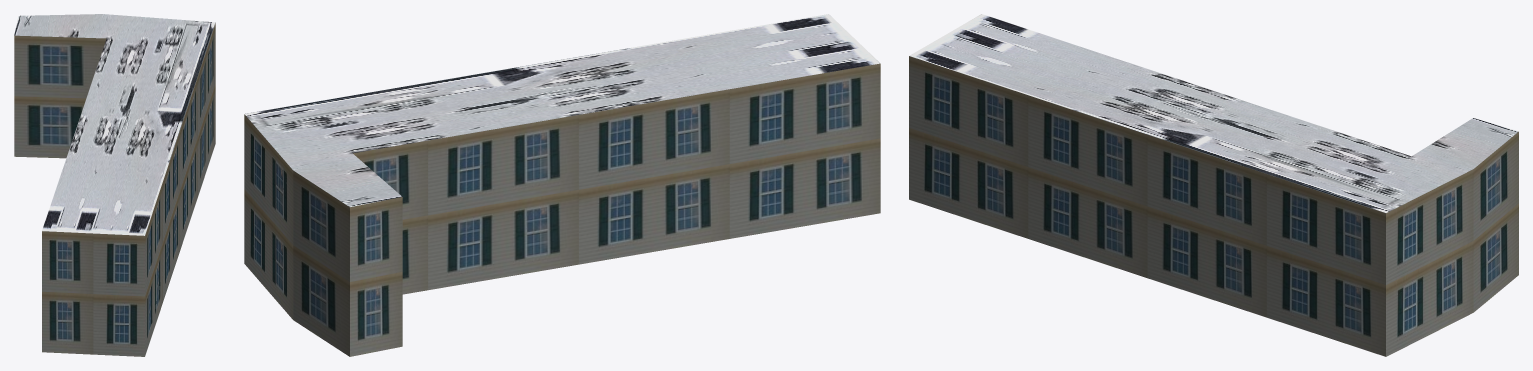
Rendered from ResTex__5321.fbx.
3 renders of one model, left to right at view 1: azimuth 30°, elevation 25°; view 2: azimuth 150°, elevation 25°; view 3: azimuth 270°, elevation 25°, orthographic. The views are drawn at different scales.
Visible parts, largest first — view 1: CityEngineMaterial_7_m, CityEngineMaterial_m; view 2: CityEngineMaterial_7_m, CityEngineMaterial_m; view 3: CityEngineMaterial_7_m, CityEngineMaterial_m.
Boxes of the visible parts, <box> form: CityEngineMaterial_7_m: <box>14,23,215,356</box>; CityEngineMaterial_m: <box>14,14,215,235</box>; CityEngineMaterial_7_m: <box>244,63,880,356</box>; CityEngineMaterial_m: <box>244,14,880,206</box>; CityEngineMaterial_7_m: <box>909,56,1518,356</box>; CityEngineMaterial_m: <box>909,14,1518,212</box>.
Size of the model in its own units: 17.85 by 6 by 23.08.
Materials: 2 (2 with a texture image).
